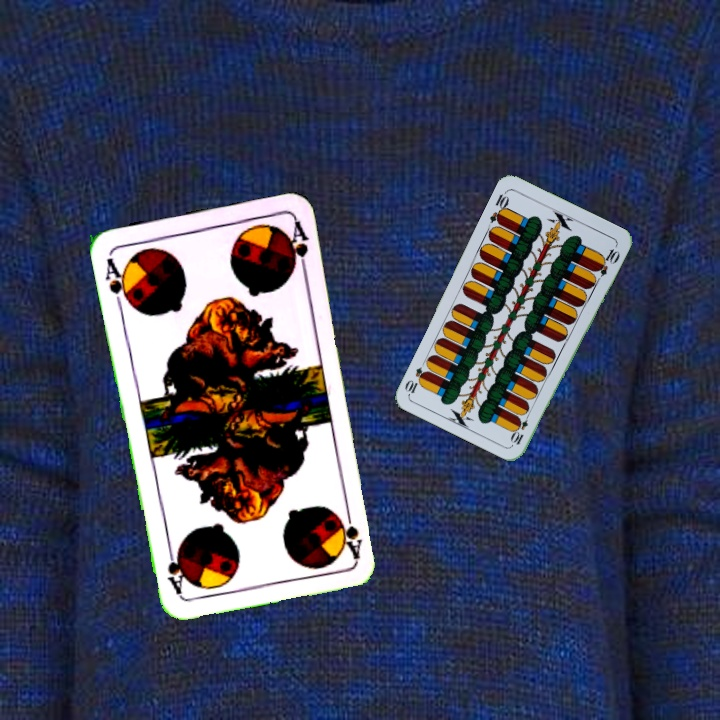E10: (486, 187, 512, 227), (508, 408, 533, 447)
SA: (101, 253, 134, 311), (338, 502, 365, 561)
